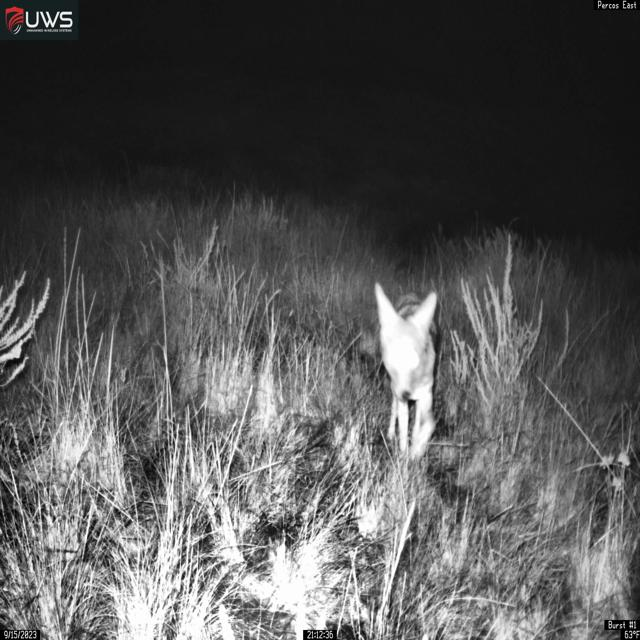coyote: (373, 281, 442, 465)
